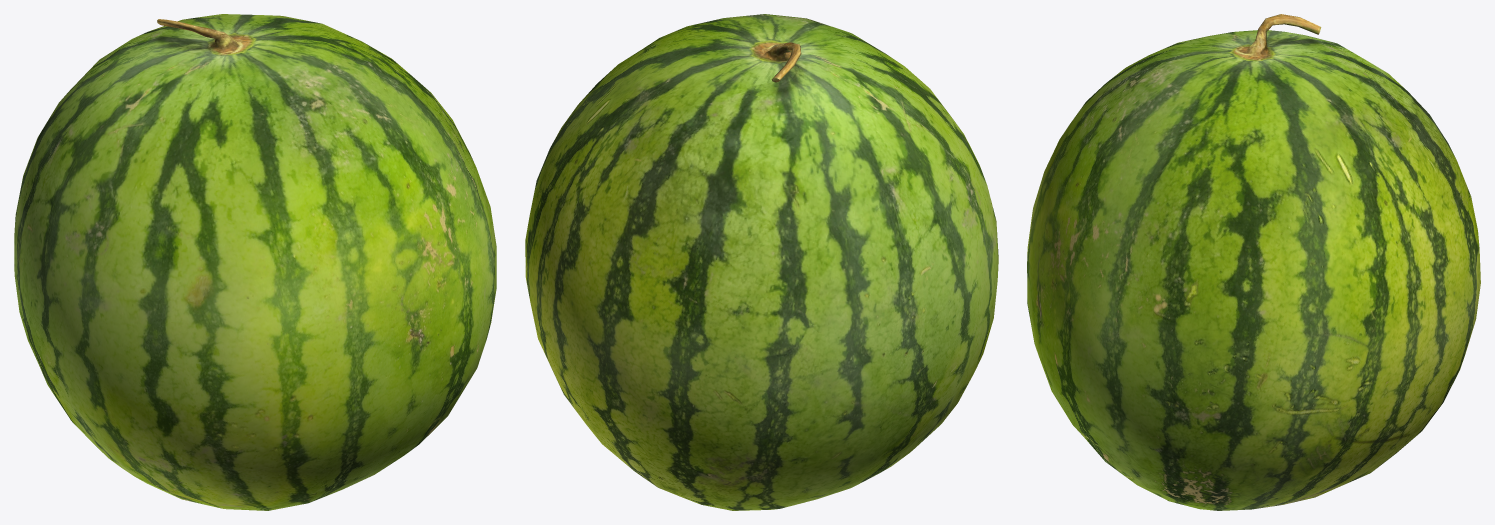
The model's file is WATERMELON.glb.
The picture shows the model from 3 angles, left to right: view 1: azimuth 30°, elevation 25°; view 2: azimuth 150°, elevation 25°; view 3: azimuth 270°, elevation 25°; orthographic projection. The views are drawn at different scales.
Parts seen in each view (by area): view 1: MocartProduct_²_; view 2: MocartProduct_²_; view 3: MocartProduct_²_.
Boxes of the visible parts, x1=… form: MocartProduct_²_: x1=14, y1=14, x2=496, y2=510; MocartProduct_²_: x1=525, y1=14, x2=998, y2=510; MocartProduct_²_: x1=1027, y1=14, x2=1480, y2=510.
Size of the model in its own units: 0.1487 by 0.1585 by 0.1454.
1 material, 1 textured.
